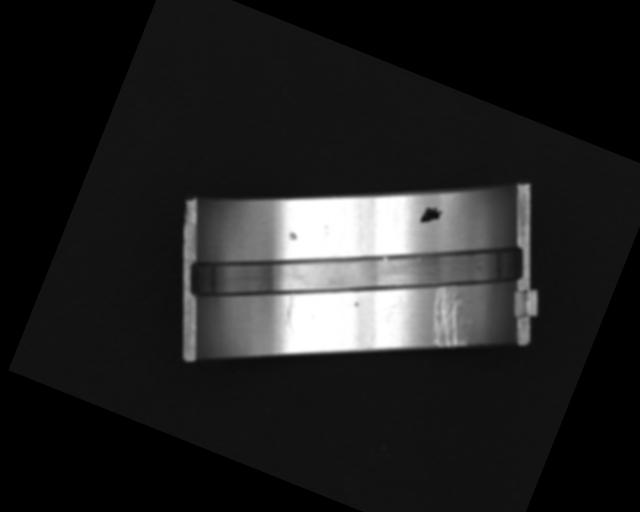blot: (418, 203, 445, 230)
bruise: (287, 231, 298, 241), (354, 300, 360, 307)
gap: (180, 136, 529, 405)
nick: (276, 292, 307, 336)
scratch: (418, 283, 484, 356)
